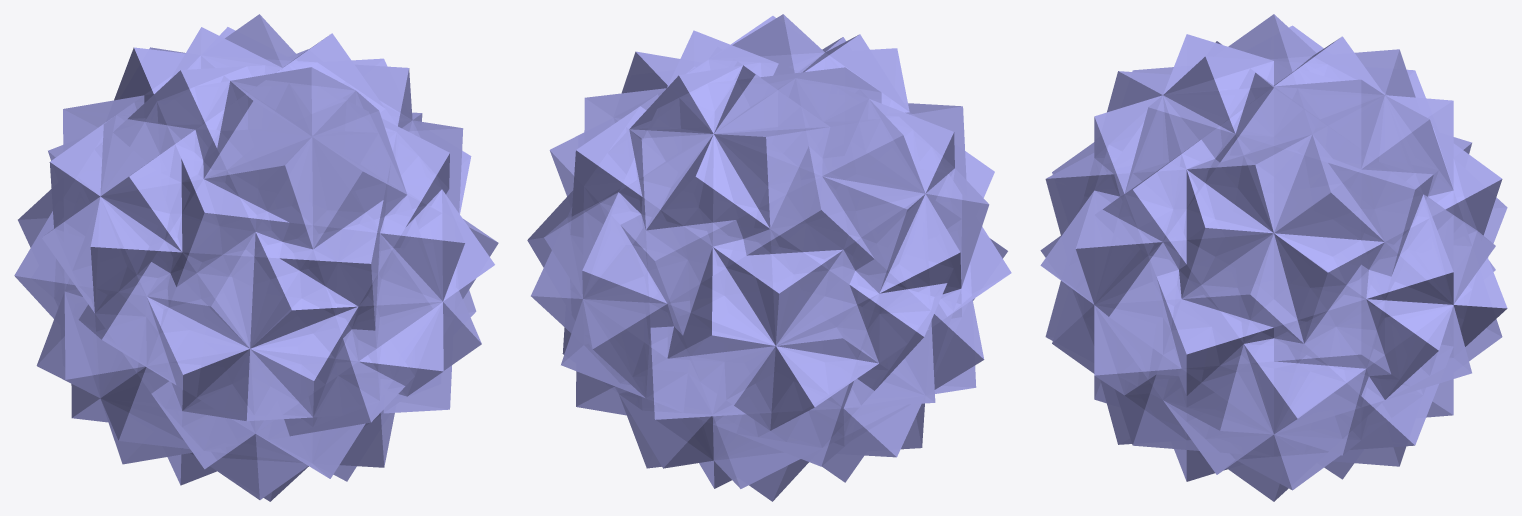
Rendered from GreatHexagonalHexecontahedron.obj.
3 renders of one model, left to right at view 1: azimuth 30°, elevation 25°; view 2: azimuth 150°, elevation 25°; view 3: azimuth 270°, elevation 25°, orthographic.
Bounding box in the file's own units: 1.17 × 1.17 × 1.17.
